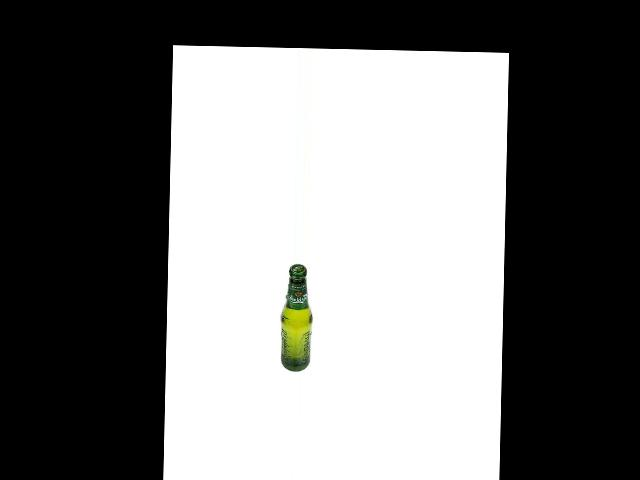beer: (279, 263, 312, 372)
